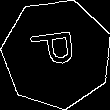P_E: (29, 32, 85, 76)
